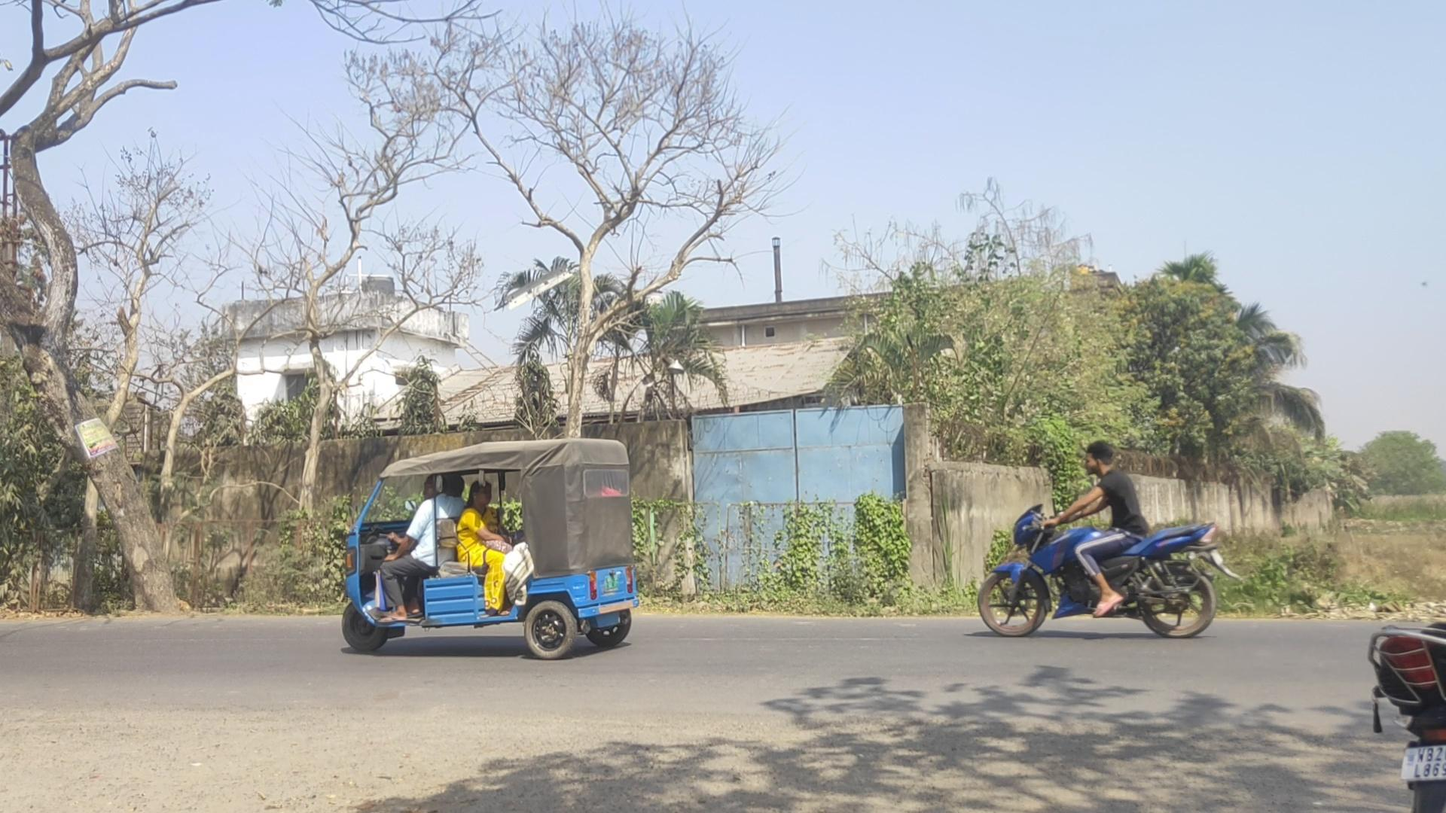Auto: (341, 437, 639, 660)
bike: (978, 440, 1242, 639)
